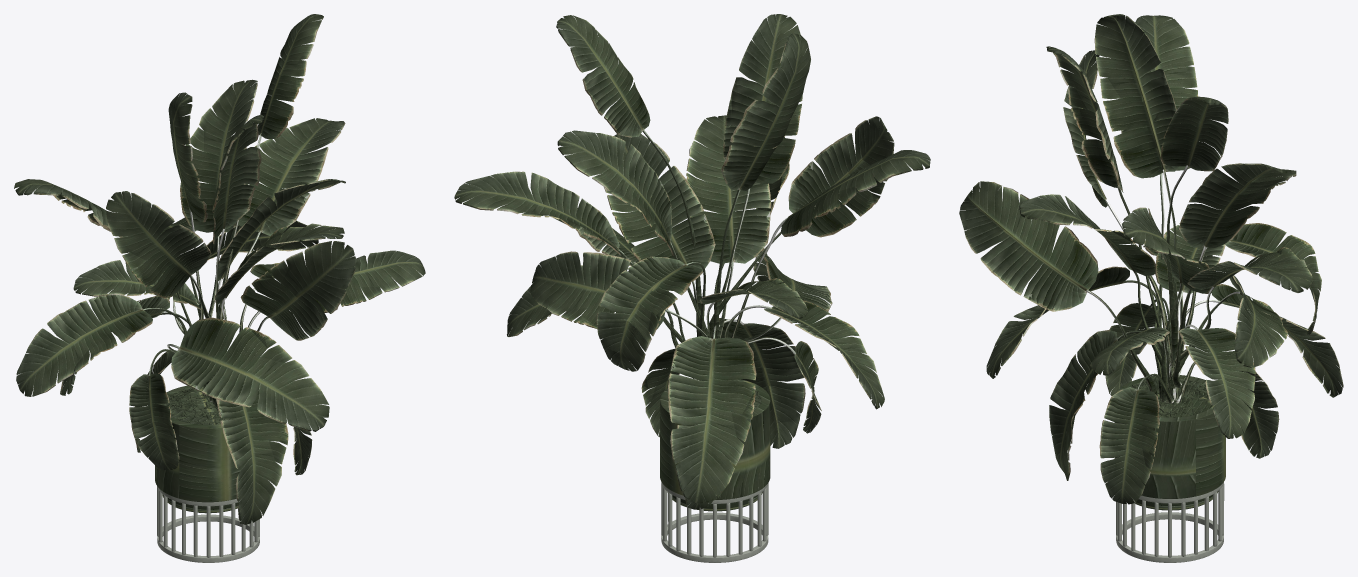
Rendered from Tree9.fbx.
The picture shows the model from 3 angles, left to right: view 1: azimuth 30°, elevation 25°; view 2: azimuth 150°, elevation 25°; view 3: azimuth 270°, elevation 25°; orthographic projection. The views are drawn at different scales.
Visible parts, largest first — view 1: Tree9Bran; view 2: Tree9Bran; view 3: Tree9Bran.
Part boxes in pixels (bbox=[...]): Tree9Bran: bbox=[14, 14, 425, 562]; Tree9Bran: bbox=[454, 14, 930, 562]; Tree9Bran: bbox=[959, 14, 1343, 562].
Size of the model in its own units: 109 by 130 by 89.19.
5 materials, 5 textured.
